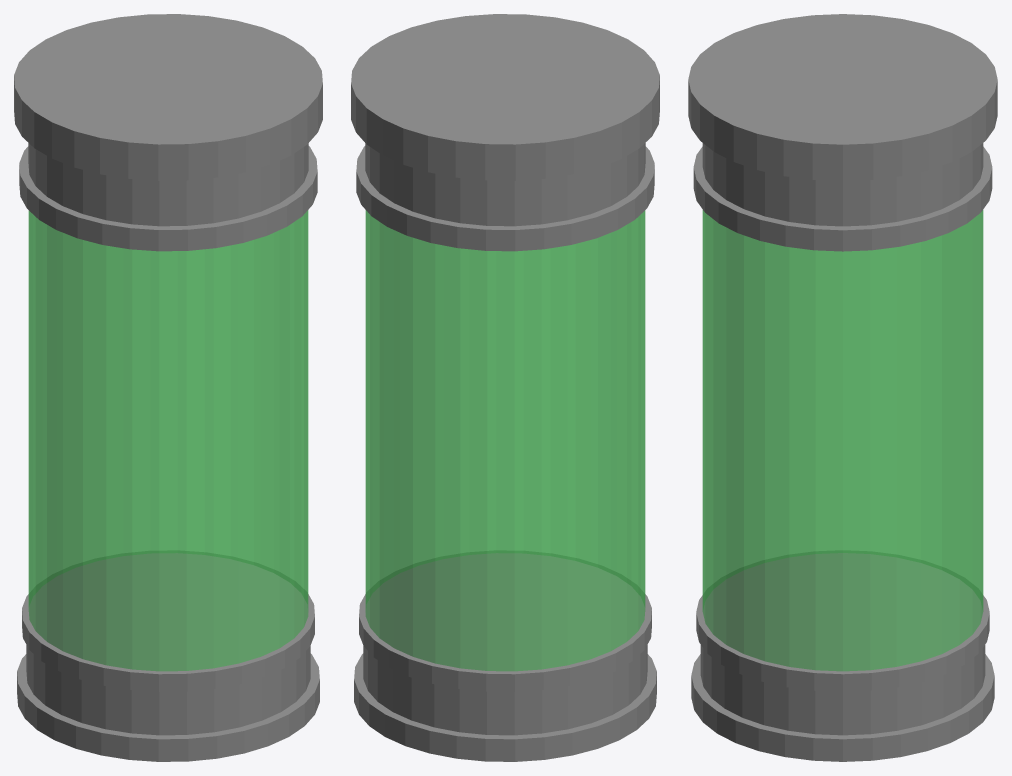
File: CulturingPod.fbx
3 renders of one model, left to right at view 1: azimuth 30°, elevation 25°; view 2: azimuth 150°, elevation 25°; view 3: azimuth 270°, elevation 25°, orthographic.
Visible parts, largest first — view 1: 円柱; view 2: 円柱; view 3: 円柱.
Boxes of the visible parts, <box> form: 円柱: <box>14,14,322,761</box>; 円柱: <box>351,14,659,761</box>; 円柱: <box>688,14,997,761</box>.
Bounding box in the file's own units: 1619 × 3571 × 1619.
